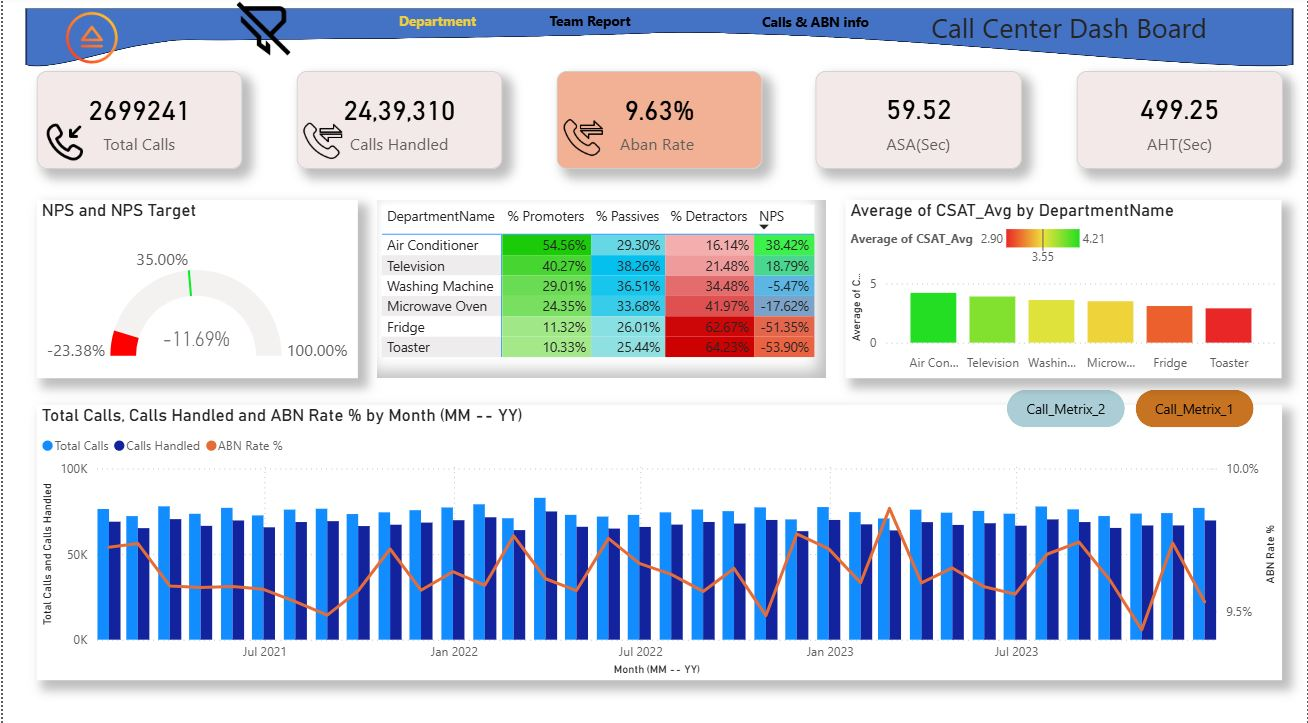

What the dashboard file says about the page in this screenshot:
{"tool":"powerbi","page":{"name":"Executice Summary","canvas":[1280,720],"ordinal":0},"visuals":[{"type":"group","id":"g1","title":"Group 1","box":[33.1,73.6,201.2,95.7],"z":0},{"type":"card","fields":{"Values":["MTable.Total Calls"]},"box":[33.1,73.6,201.7,96.1],"z":0,"group":"g1"},{"type":"card","fields":{"Values":["MTable.Calls Handled"]},"box":[288,73.6,201.7,96.1],"z":0,"group":"g2"},{"type":"card","fields":{"Values":["MTable.ABN Rate %"]},"box":[542.9,73.6,201.7,96.1],"z":0,"group":"g3"},{"type":"card","fields":{"Values":["MTable.ASA(Sec)"]},"box":[797.9,73.6,202.5,95.7],"z":1000},{"type":"image","box":[542.9,113.4,52.1,52.1],"z":1000,"group":"g3"},{"type":"image","box":[33.1,116.1,54.9,53.5],"z":1000,"group":"g1"},{"type":"image","box":[288,116.1,51,51],"z":1000,"group":"g2"},{"type":"group","id":"g2","title":"Group 2","box":[288,73.6,201.2,95.7],"z":2000},{"type":"group","id":"g3","title":"Group 3","box":[542.9,73.6,201.2,95.7],"z":3000},{"type":"card","fields":{"Values":["MTable.AHT(Sec)"]},"box":[1054,73.6,202.5,95.7],"z":4000},{"type":"pivotTable","fields":{"Rows":["Department.DepartmentName"],"Values":["MTable.% Promoters","MTable.% Passives","MTable.% Detractors","MTable.NPS"]},"box":[367.5,200,440.5,175.5],"z":5000},{"type":"gauge","fields":{"Y":["MTable.NPS"],"TargetValue":["MTable.NPS Target"]},"box":[33.1,200,315.3,175.5],"z":6000},{"type":"lineClusteredColumnComboChart","fields":{"Category":["calendar.Month (MM -- YY)"],"Y":["MTable.Total Calls","MTable.Calls Handled"],"Y2":["MTable.ABN Rate %"]},"box":[33.5,400.9,1222.7,270.6],"z":7000},{"type":"bookmarkNavigator","box":[985.6,386,243.3,37.2],"z":10000},{"type":"columnChart","fields":{"Category":["Department.DepartmentName"],"Y":["Avg(Calls.CSAT_Avg)"]},"box":[827,200,428.2,175.5],"z":11000},{"type":"image","box":[16.7,7,1254.9,66.9],"z":12000},{"type":"textbox","box":[807.4,7.4,438,52.8],"z":13000},{"type":"image","title":"Image_Open","box":[55.8,7,64.1,66.9],"z":15000},{"type":"image","box":[225.1,0,62.3,64.1],"z":17000},{"type":"actionButton","box":[376.8,7.5,99.5,33.6],"z":18000},{"type":"actionButton","box":[519.9,7.5,111.9,33.6],"z":19000},{"type":"actionButton","box":[704.3,11,186.5,27],"z":20000}]}

Visuals, with their boxes in screenshot pixels (x1, y1, x2, y2), scaled from the page's 1280x720 canvas onto the 1308x723 screenshot:
"Group 1" group: [left=34, top=74, right=239, bottom=170]
card - MTable.Total Calls: [left=34, top=74, right=240, bottom=170]
card - MTable.Calls Handled: [left=294, top=74, right=500, bottom=170]
card - MTable.ABN Rate %: [left=555, top=74, right=761, bottom=170]
card - MTable.ASA(Sec): [left=815, top=74, right=1022, bottom=170]
image: [left=555, top=114, right=608, bottom=166]
image: [left=34, top=117, right=90, bottom=170]
image: [left=294, top=117, right=346, bottom=168]
"Group 2" group: [left=294, top=74, right=500, bottom=170]
"Group 3" group: [left=555, top=74, right=760, bottom=170]
card - MTable.AHT(Sec): [left=1077, top=74, right=1284, bottom=170]
pivotTable - Department.DepartmentName x MTable.% Promoters: [left=376, top=201, right=826, bottom=377]
gauge - MTable.NPS x MTable.NPS Target: [left=34, top=201, right=356, bottom=377]
lineClusteredColumnComboChart - calendar.Month (MM -- YY) x MTable.Total Calls: [left=34, top=403, right=1284, bottom=674]
bookmarkNavigator: [left=1007, top=388, right=1256, bottom=425]
columnChart - Department.DepartmentName x Avg(Calls.CSAT_Avg): [left=845, top=201, right=1283, bottom=377]
image: [left=17, top=7, right=1299, bottom=74]
textbox: [left=825, top=7, right=1273, bottom=60]
"Image_Open" image: [left=57, top=7, right=123, bottom=74]
image: [left=230, top=0, right=294, bottom=64]
actionButton: [left=385, top=8, right=487, bottom=41]
actionButton: [left=531, top=8, right=646, bottom=41]
actionButton: [left=720, top=11, right=910, bottom=38]
